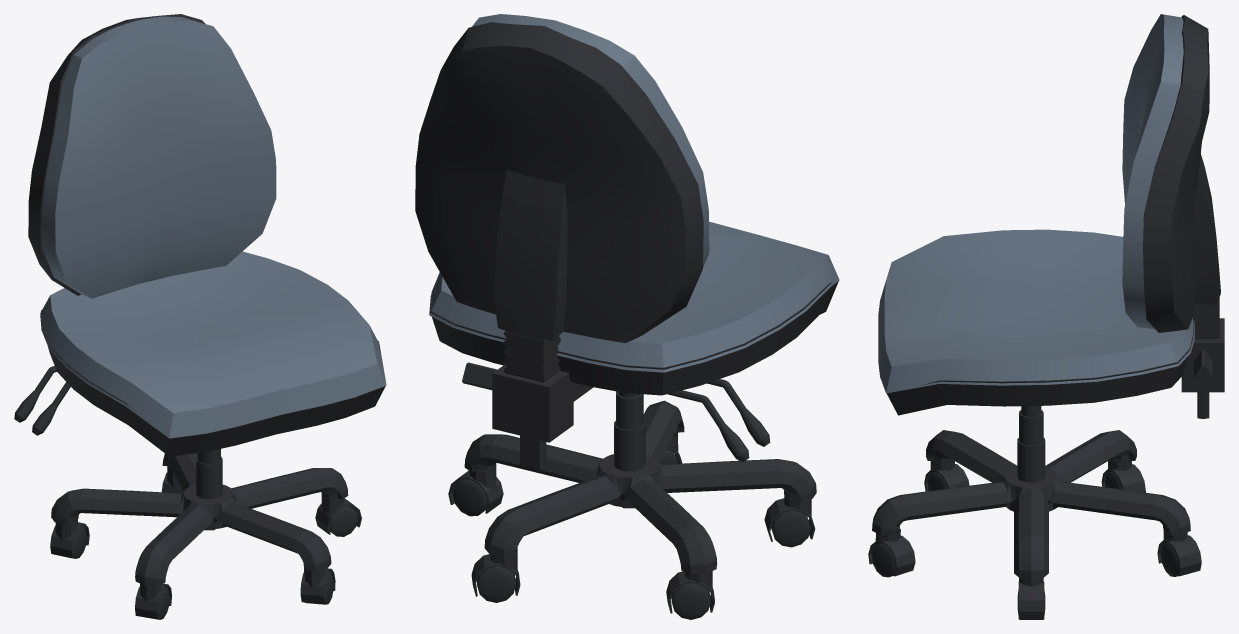
File: computerChair_001.fbx
3 renders of one model, left to right at view 1: azimuth 30°, elevation 25°; view 2: azimuth 150°, elevation 25°; view 3: azimuth 270°, elevation 25°, orthographic. The views are drawn at different scales.
Visible parts, largest first — view 1: cushy, legs, seat, chair_wheel_01, stick, chair_wheel_07, thingys, chair_wheel_08, chair_wheel_09; view 2: seat, cushy, legs, thingys, stick, chair_wheel_08, chair_wheel_01, chair_wheel_06, chair_wheel_07; view 3: cushy, seat, legs, thingys, stick, chair_wheel_09, chair_wheel_06, chair_wheel_01, chair_wheel_07, chair_wheel_08.
Boxes of the visible parts, x1,y1,x2,y2 form: cushy: [40, 16, 386, 438]; legs: [51, 453, 348, 585]; seat: [28, 14, 385, 456]; chair_wheel_01: [315, 494, 361, 536]; stick: [196, 449, 222, 499]; chair_wheel_07: [50, 519, 89, 558]; thingys: [14, 366, 70, 435]; chair_wheel_08: [135, 583, 171, 619]; chair_wheel_09: [300, 565, 335, 604]; seat: [415, 22, 838, 395]; cushy: [429, 14, 839, 372]; legs: [464, 400, 816, 573]; thingys: [462, 330, 770, 469]; stick: [614, 391, 645, 471]; chair_wheel_08: [764, 495, 815, 547]; chair_wheel_01: [448, 465, 503, 516]; chair_wheel_06: [471, 549, 520, 602]; chair_wheel_07: [666, 571, 714, 619]; cushy: [878, 14, 1194, 393]; seat: [886, 15, 1220, 415]; legs: [872, 430, 1190, 579]; thingys: [1181, 298, 1224, 418]; stick: [1017, 406, 1045, 482]; chair_wheel_09: [868, 528, 915, 577]; chair_wheel_06: [1157, 531, 1201, 576]; chair_wheel_01: [1017, 577, 1045, 619]; chair_wheel_07: [1101, 460, 1145, 492]; chair_wheel_08: [924, 460, 969, 491].
Size of the model in its own units: 9.49 by 15.24 by 9.43.
